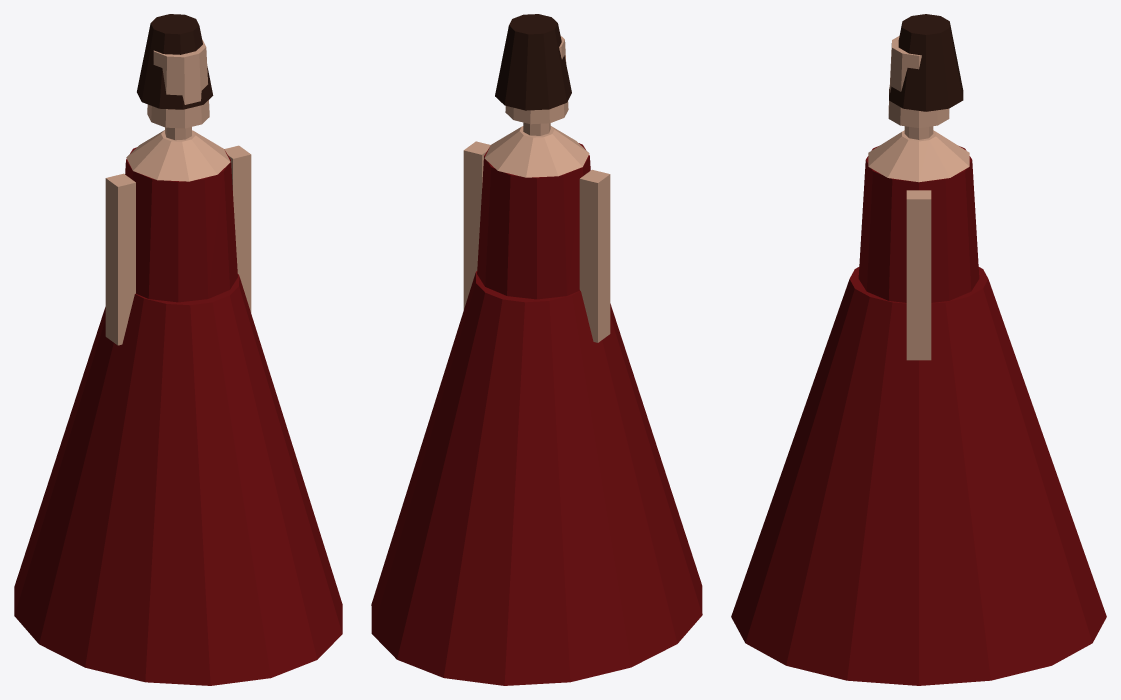
File: melissa.obj
3 views of the same model, side by side, from view 1: azimuth 30°, elevation 25°; view 2: azimuth 150°, elevation 25°; view 3: azimuth 270°, elevation 25° (orthographic).
Bounding box in the file's own units: 0.92 × 1.84 × 1.06.
